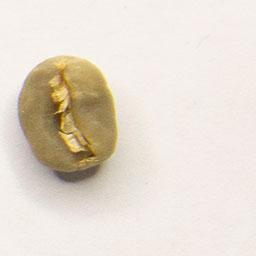peaberry: (15, 52, 119, 176)
